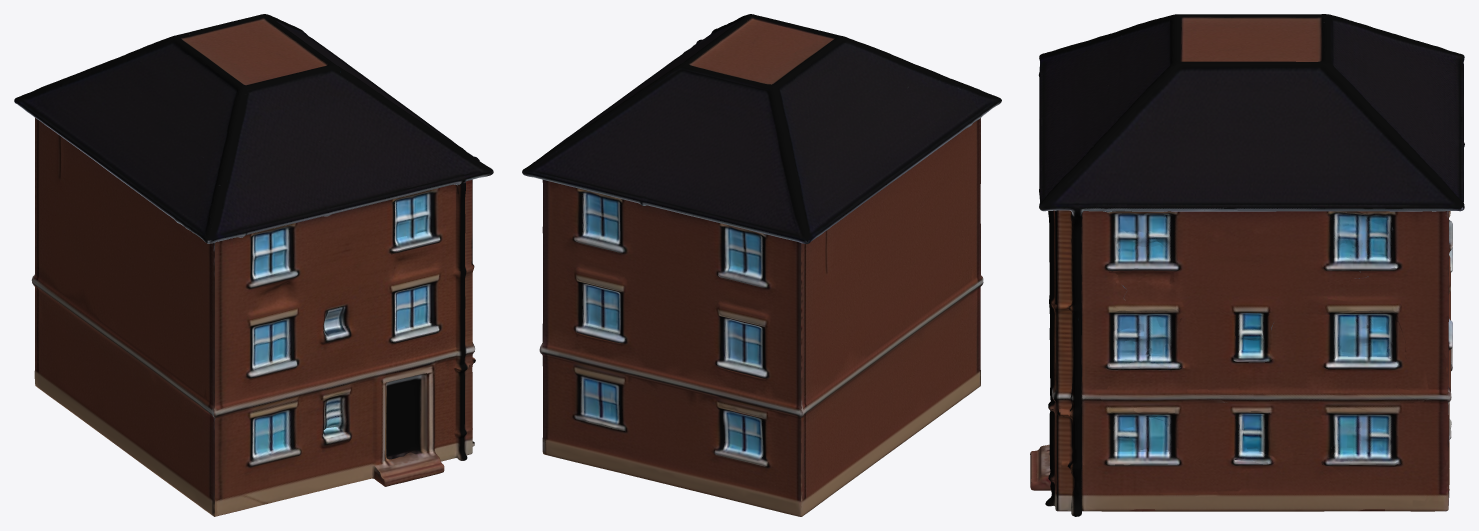
Rendered from house-corner-townhouse.glb.
3 views of the same model, side by side, from view 1: azimuth 30°, elevation 25°; view 2: azimuth 150°, elevation 25°; view 3: azimuth 270°, elevation 25° (orthographic). The views are drawn at different scales.
Parts seen in each view (by area): view 1: tmpwhb2od9u.ply; view 2: tmpwhb2od9u.ply; view 3: tmpwhb2od9u.ply.
Boxes of the visible parts, x1,y1,x2,y2 form: tmpwhb2od9u.ply: (14,14,493,516); tmpwhb2od9u.ply: (522,14,1001,516); tmpwhb2od9u.ply: (1030,14,1464,516).
Bounding box in the file's own units: 1.61 × 1.97 × 1.91.
Materials: 1 (1 with a texture image).
